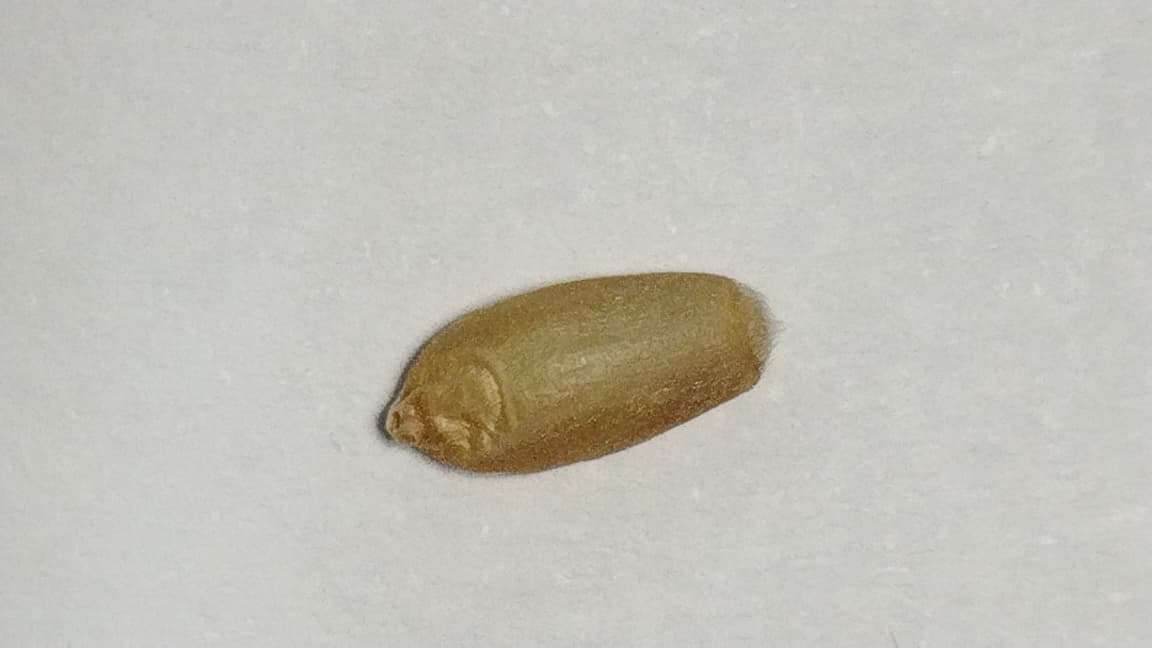healthy: (386, 273, 769, 470)
